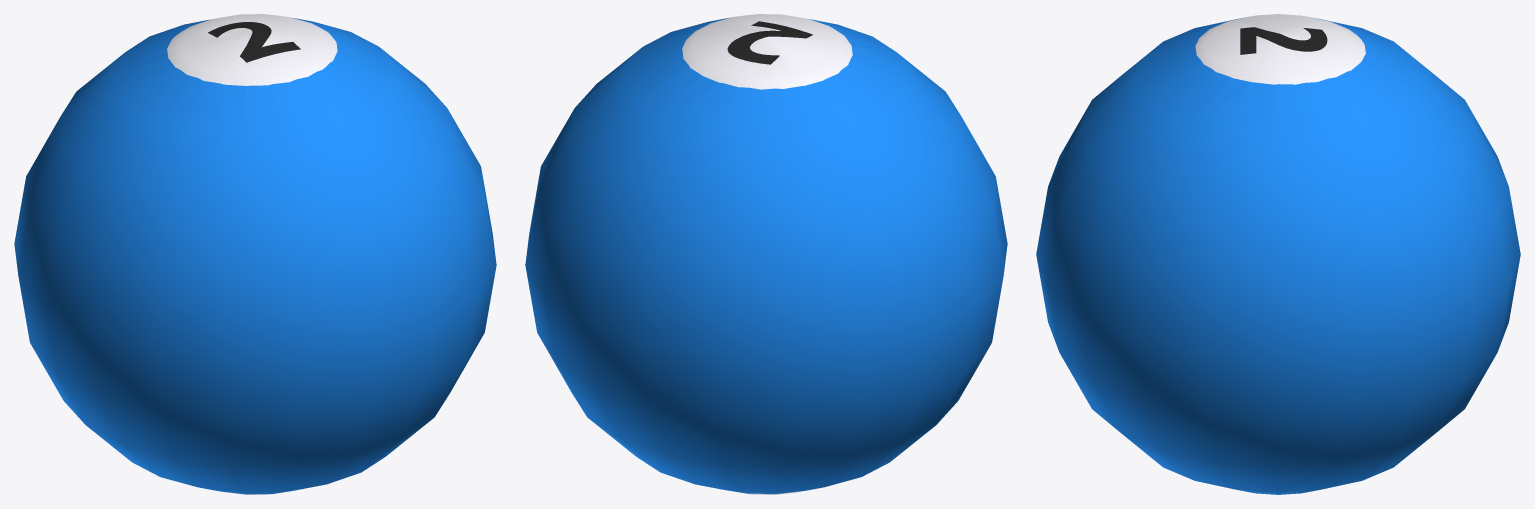
The model's file is 2ball.dae.
3 renders of one model, left to right at view 1: azimuth 30°, elevation 25°; view 2: azimuth 150°, elevation 25°; view 3: azimuth 270°, elevation 25°, orthographic.
Parts seen in each view (by area): view 1: Billiard_Ball__2_Blue (×3); view 2: Billiard_Ball__2_Blue (×3); view 3: Billiard_Ball__2_Blue (×3).
Part boxes in pixels (left/top/right/bottom): Billiard_Ball__2_Blue (×3): left=14, top=14, right=496, bottom=494; Billiard_Ball__2_Blue (×3): left=525, top=14, right=1007, bottom=493; Billiard_Ball__2_Blue (×3): left=1036, top=14, right=1520, bottom=494.
Size of the model in its own units: 1.69 by 1.69 by 1.69.
